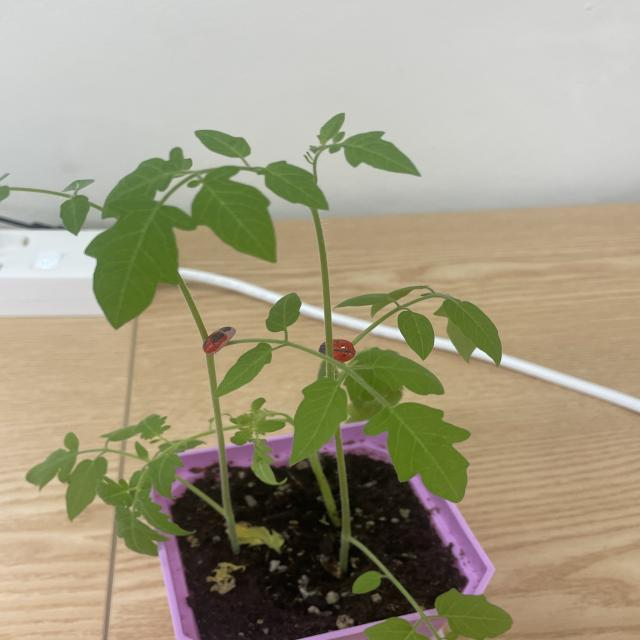bug: (301, 323, 372, 384), (191, 313, 241, 373)
